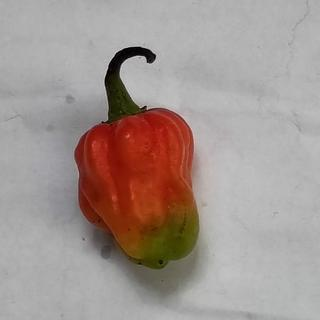Grade-A: (73, 104, 204, 274)
